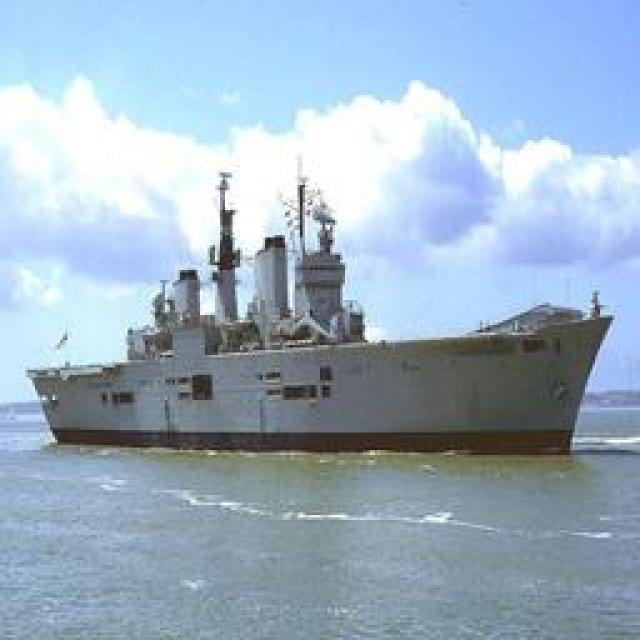ship2: (24, 170, 616, 459)
